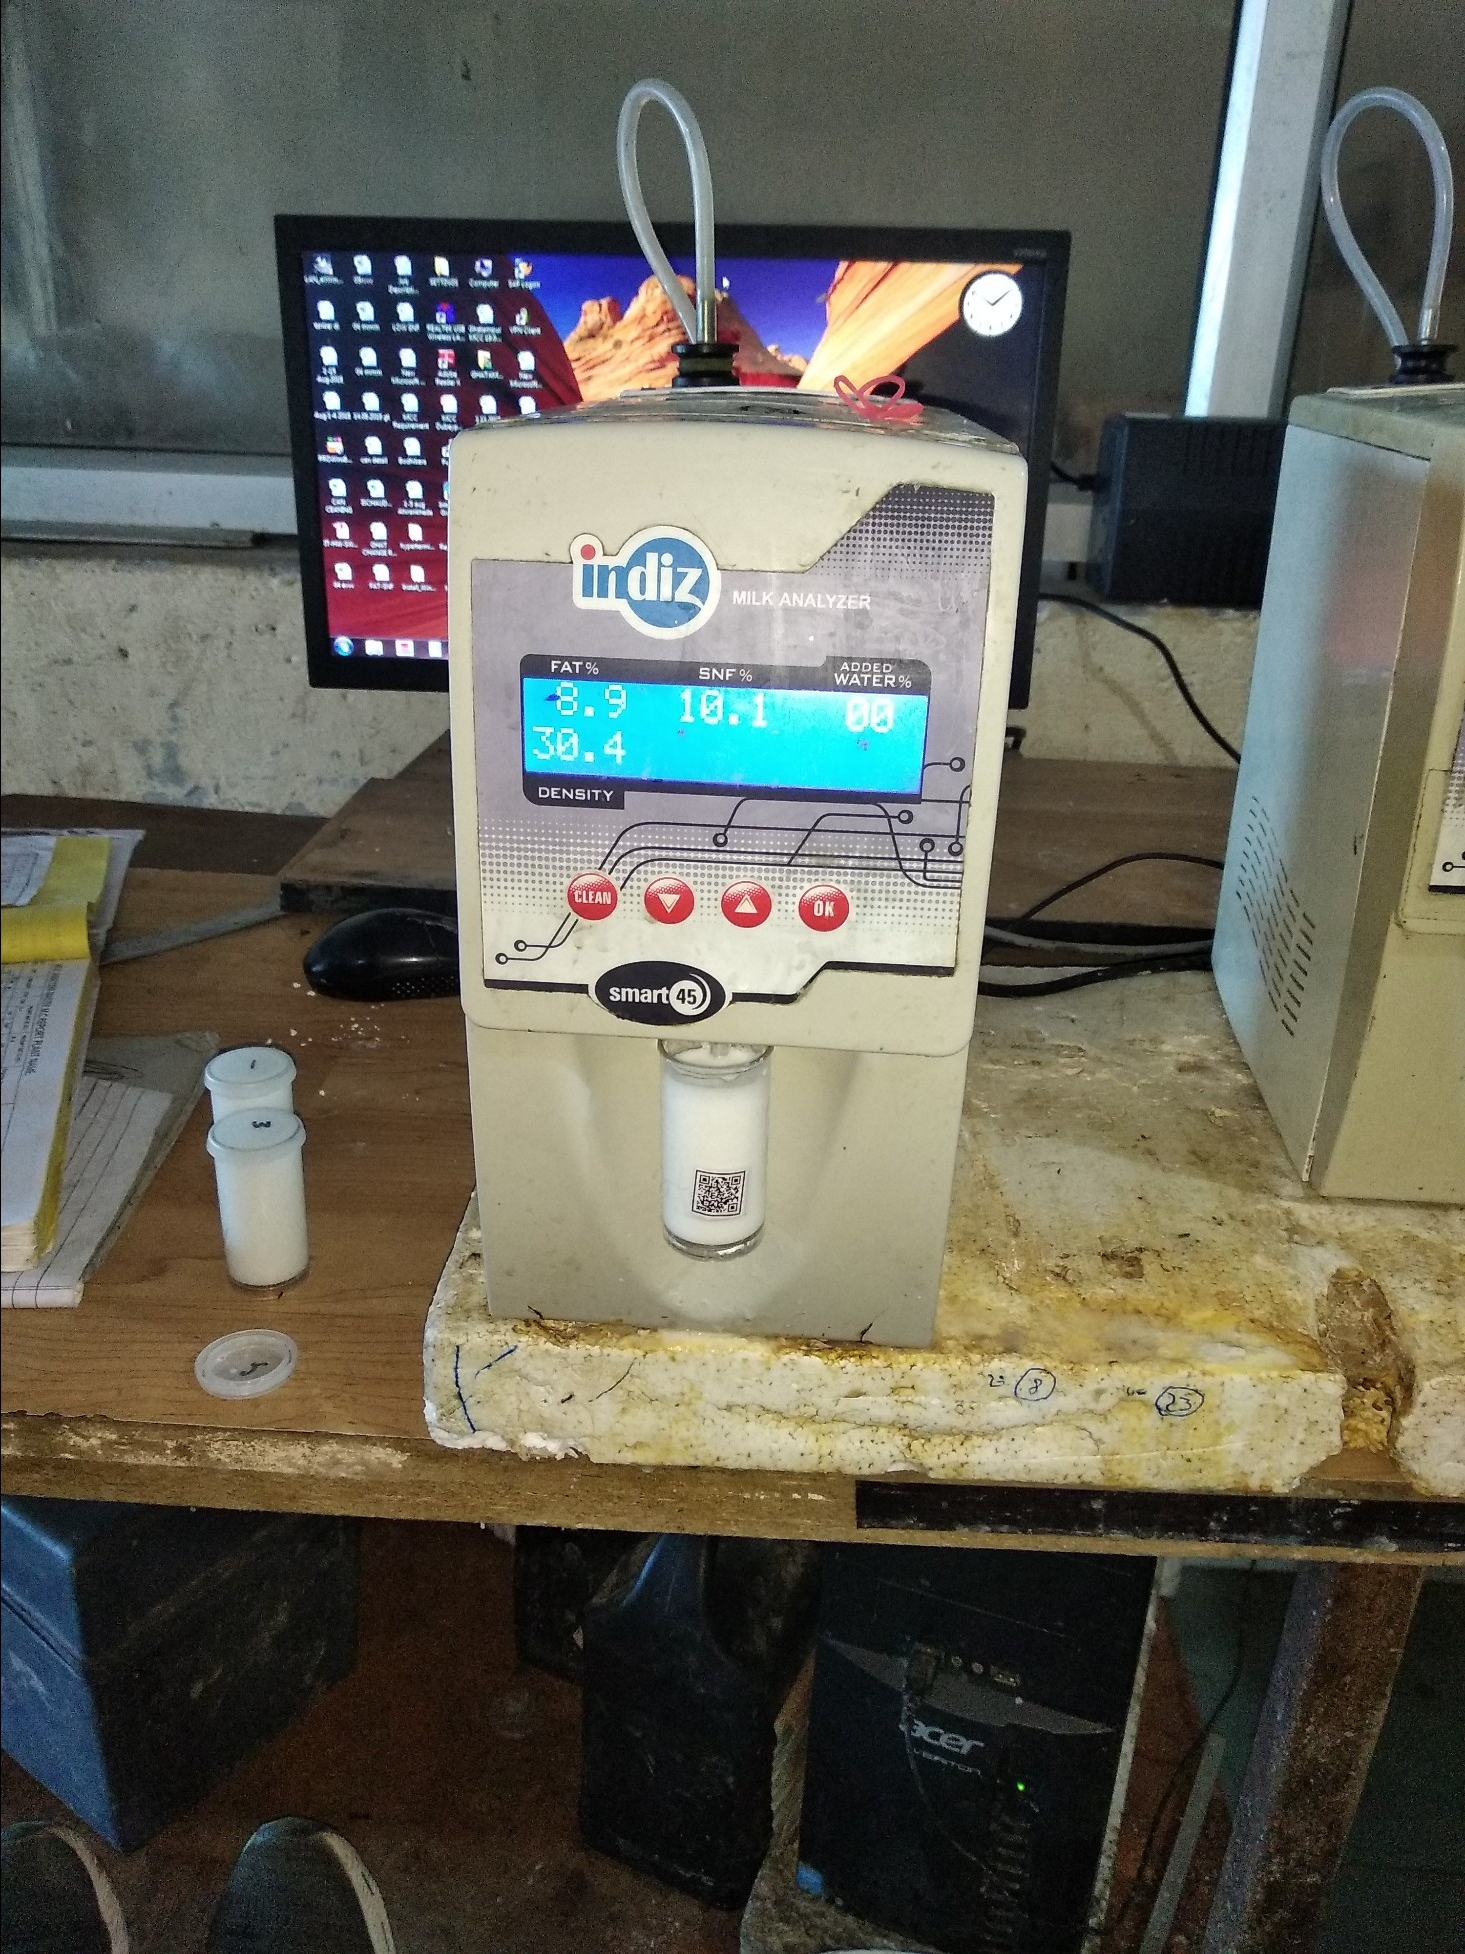lcd: (512, 665, 951, 831)
qr: (685, 1152, 766, 1243)
